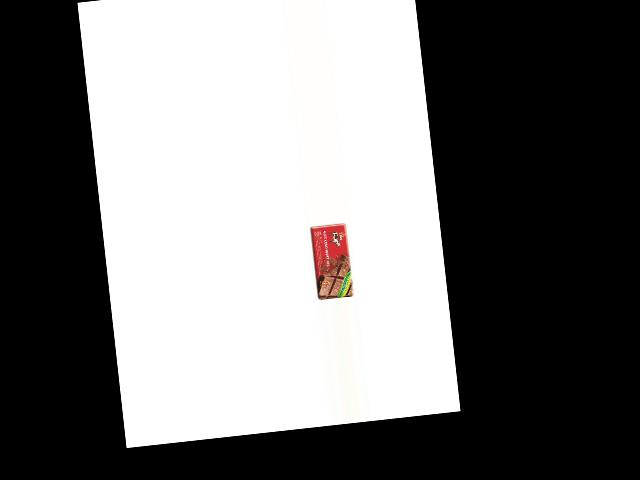chocolate: (308, 221, 354, 300)
